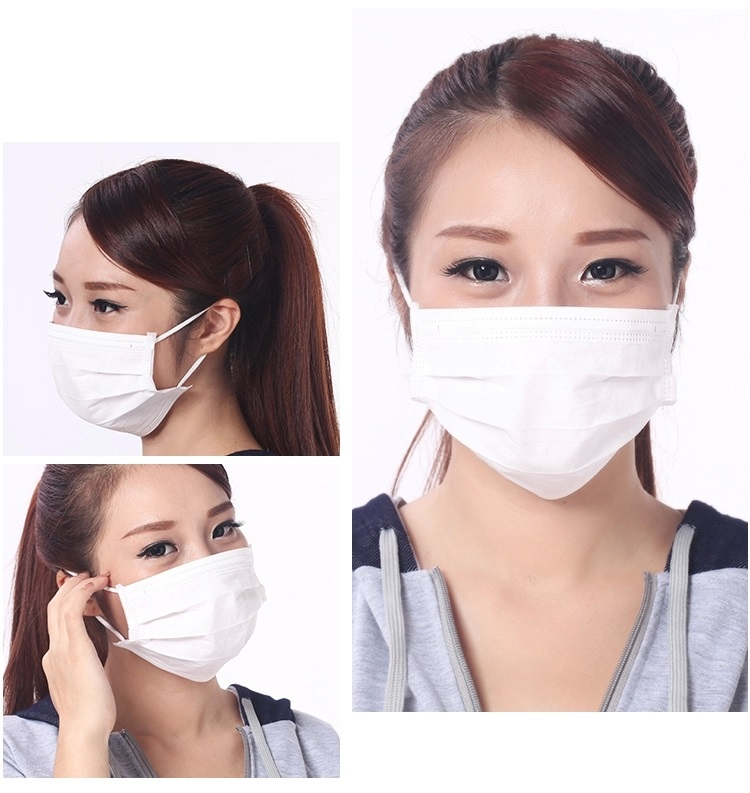face_mask: (412, 117, 670, 495), (102, 469, 262, 685), (45, 209, 190, 431)
